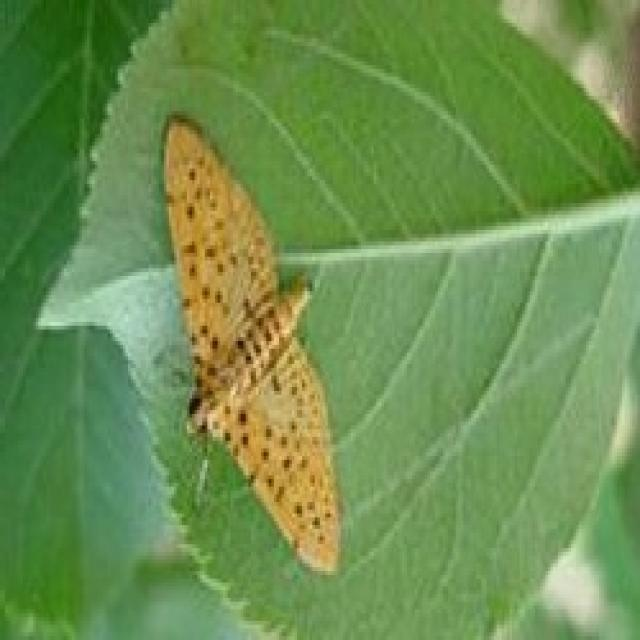peach borer: (138, 109, 345, 584)
